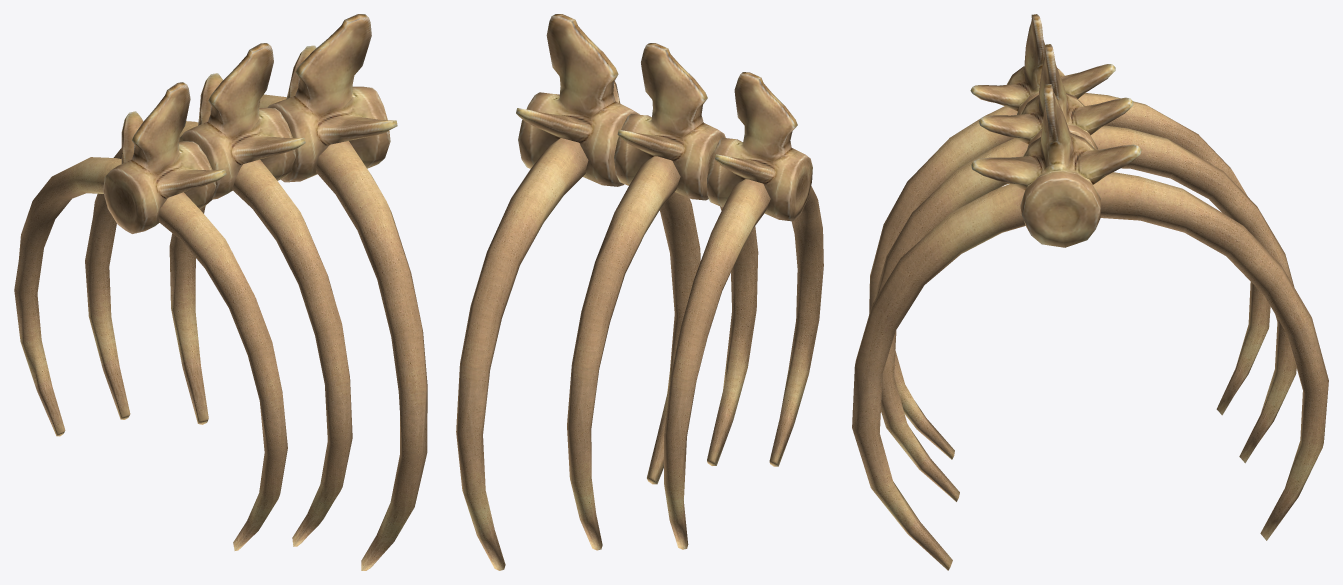
File: bone_02.FBX
3 renders of one model, left to right at view 1: azimuth 30°, elevation 25°; view 2: azimuth 150°, elevation 25°; view 3: azimuth 270°, elevation 25°, orthographic. The views are drawn at different scales.
Visible parts, largest first — view 1: bone_02; view 2: bone_02; view 3: bone_02.
Part boxes in pixels (x1,y1,x2,y2): bone_02: [14, 14, 427, 570]; bone_02: [456, 14, 823, 570]; bone_02: [852, 14, 1328, 570].
Size of the model in its own units: 36.34 by 66.08 by 56.72.
